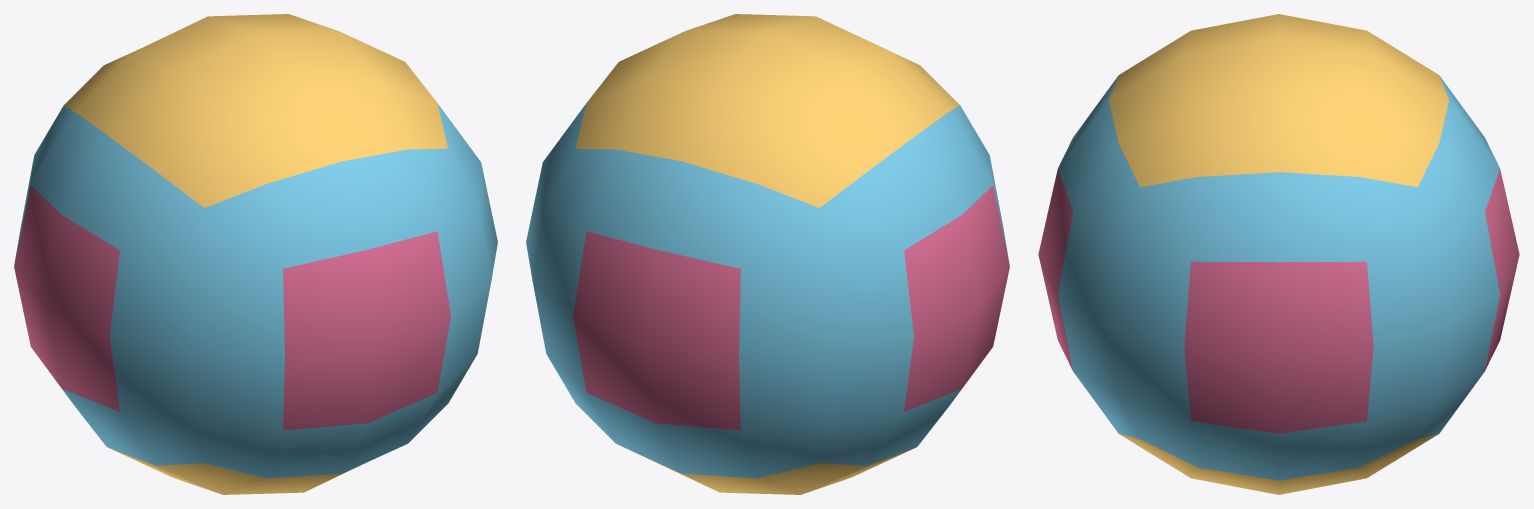
File: ball.FBX
3 renders of one model, left to right at view 1: azimuth 30°, elevation 25°; view 2: azimuth 150°, elevation 25°; view 3: azimuth 270°, elevation 25°, orthographic.
Parts seen in each view (by area): view 1: Box003; view 2: Box003; view 3: Box003.
Part boxes in pixels (bbox=[...]): Box003: bbox=[14, 14, 497, 494]; Box003: bbox=[526, 14, 1009, 494]; Box003: bbox=[1038, 14, 1519, 494].
Size of the model in its own units: 21.96 by 21.96 by 21.96.
